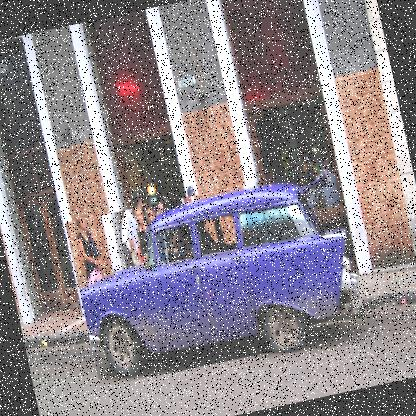Car: (65, 165, 369, 388)
